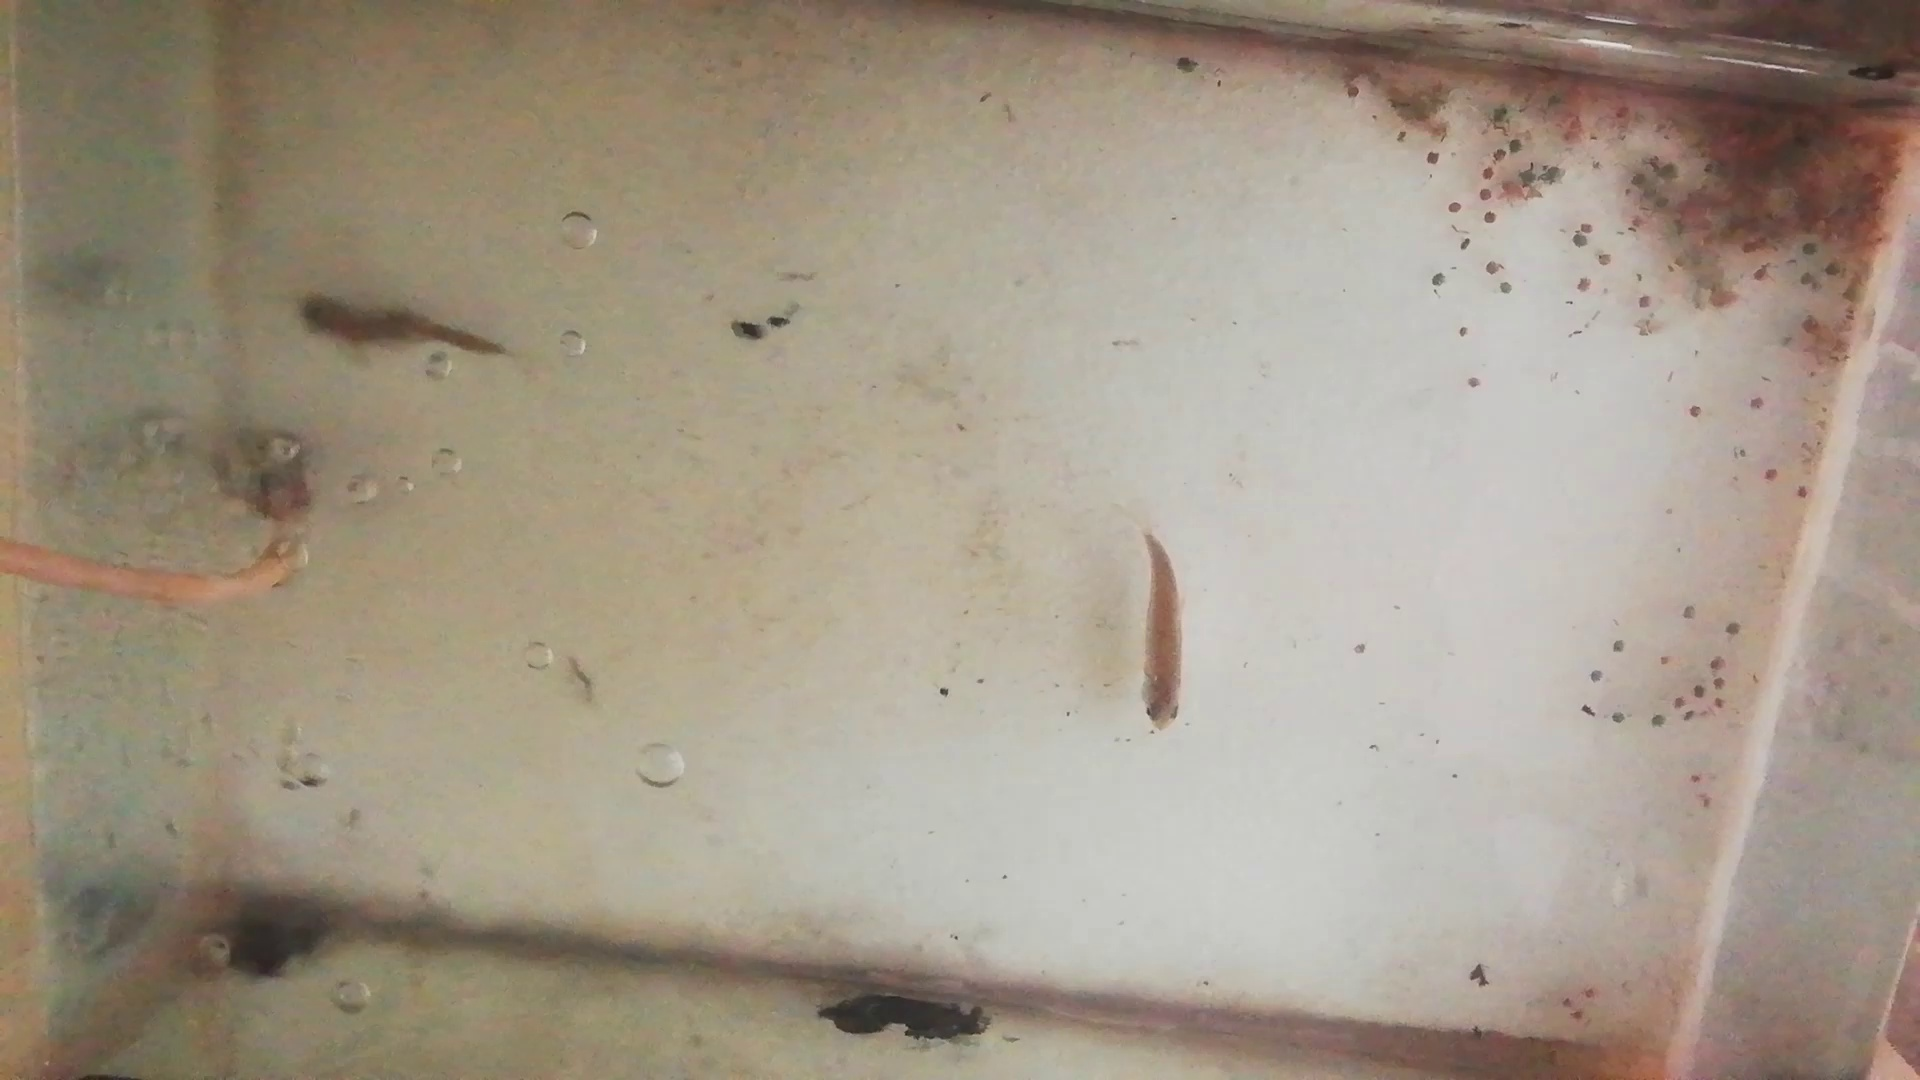fish: (294, 291, 508, 375), (1133, 535, 1187, 737)
